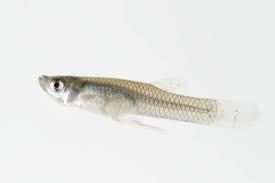Mosquito Fish: (38, 72, 259, 139)
